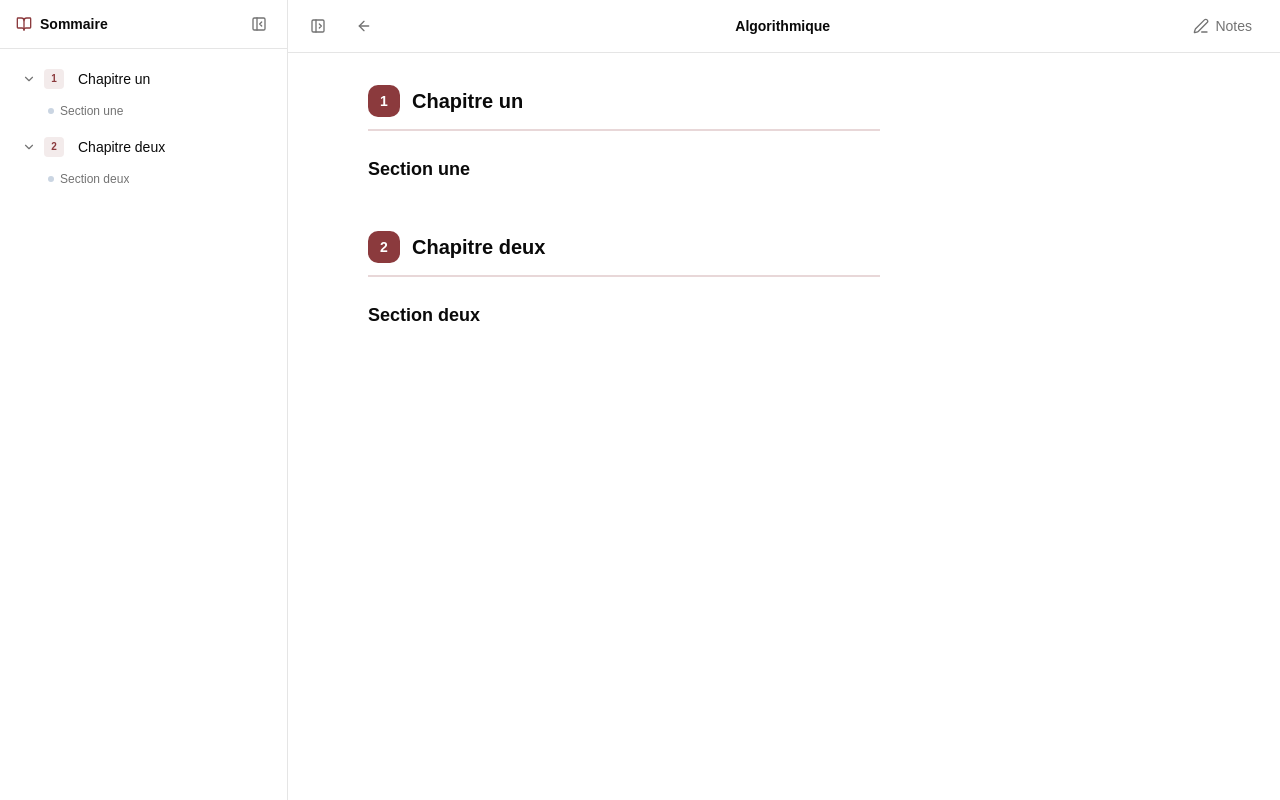
Test: CourseReader › puis redeplie le chapitre au second clic
Click the text "Chapitre un". click: (114, 79)
box: [78,69,150,89]
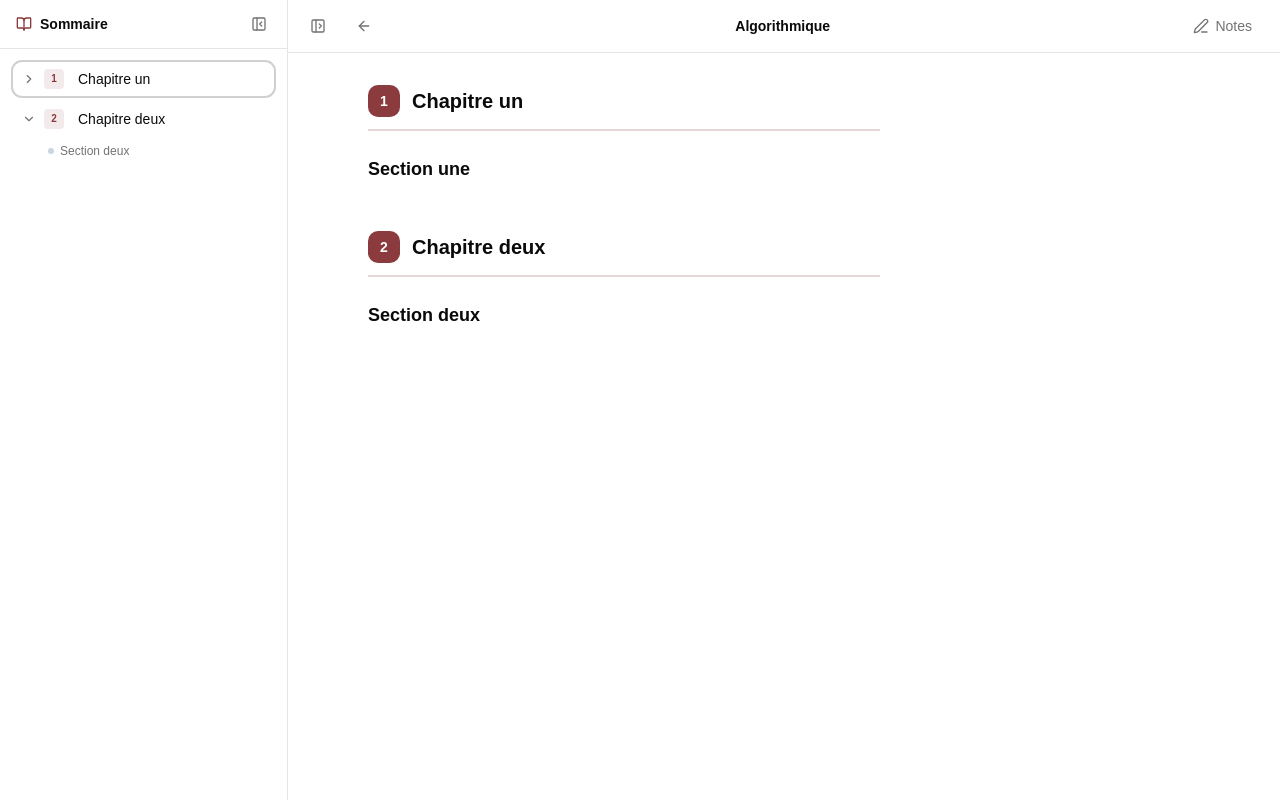
Click the text "Chapitre un". click: (114, 79)
box: [78,69,150,89]
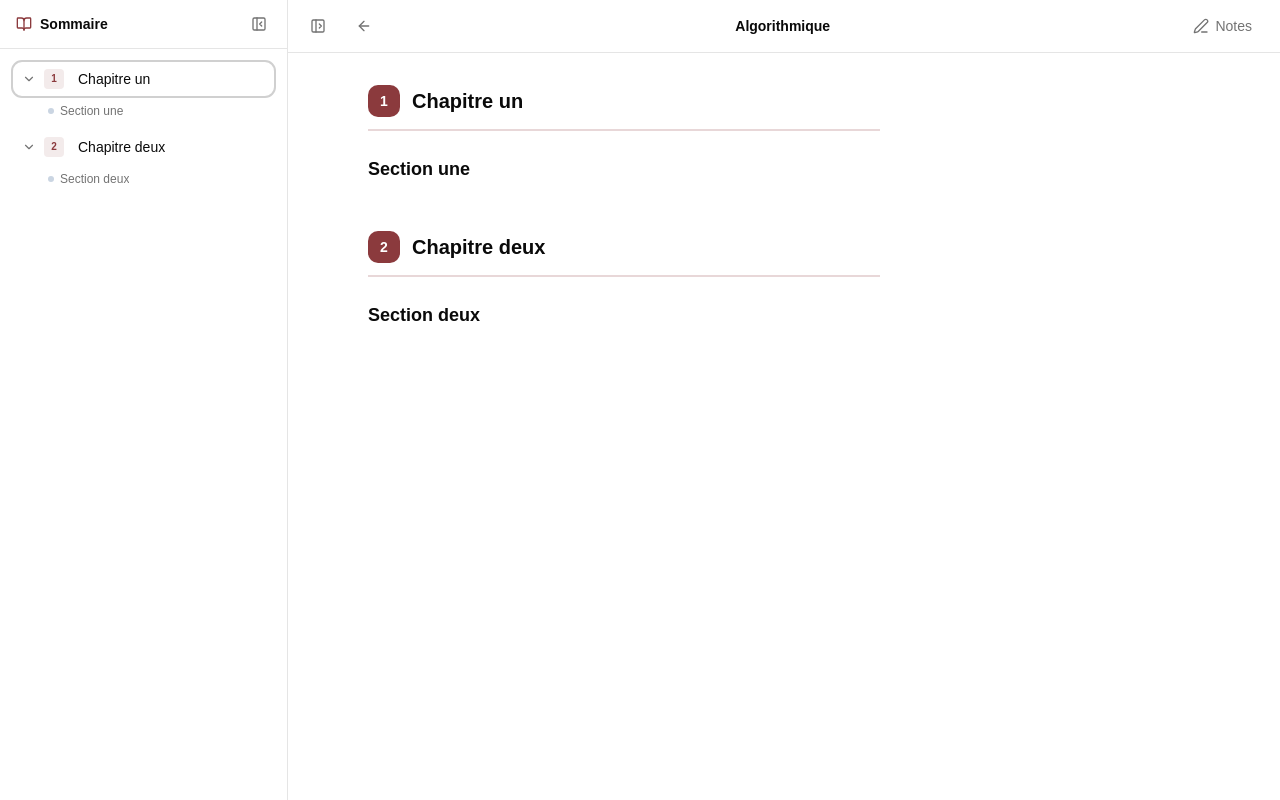
Expected: the text "Section une" is shown, [60,103,123,119]
